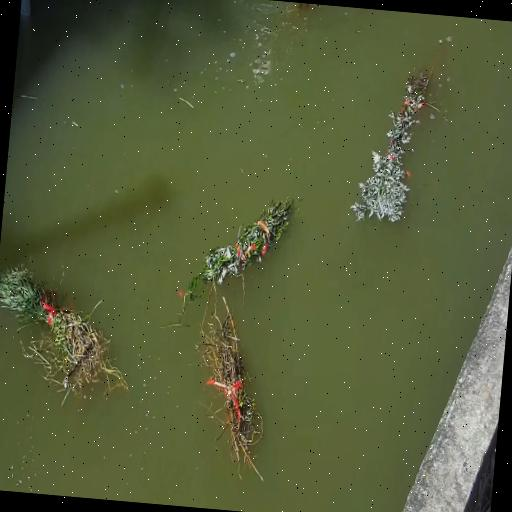twig: (0, 265, 128, 406), (351, 41, 441, 222), (198, 285, 263, 480), (185, 198, 293, 300)
